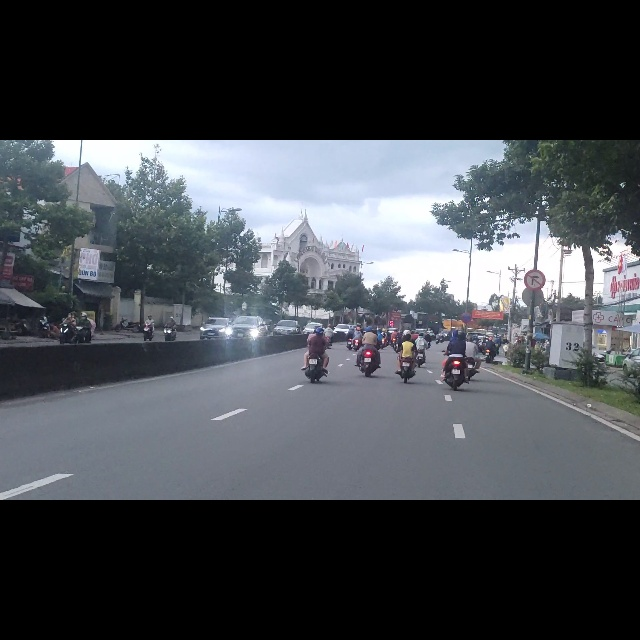bien_cam: (524, 229, 546, 266), (461, 306, 471, 325)
